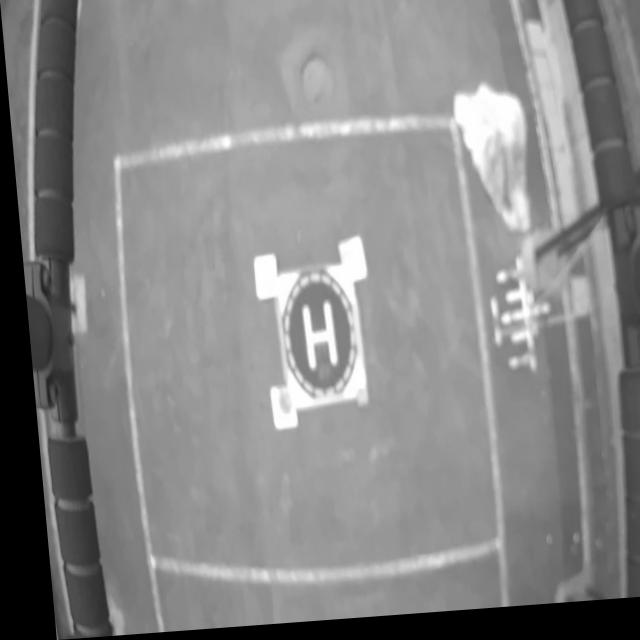Helipad: (295, 305, 332, 374)
